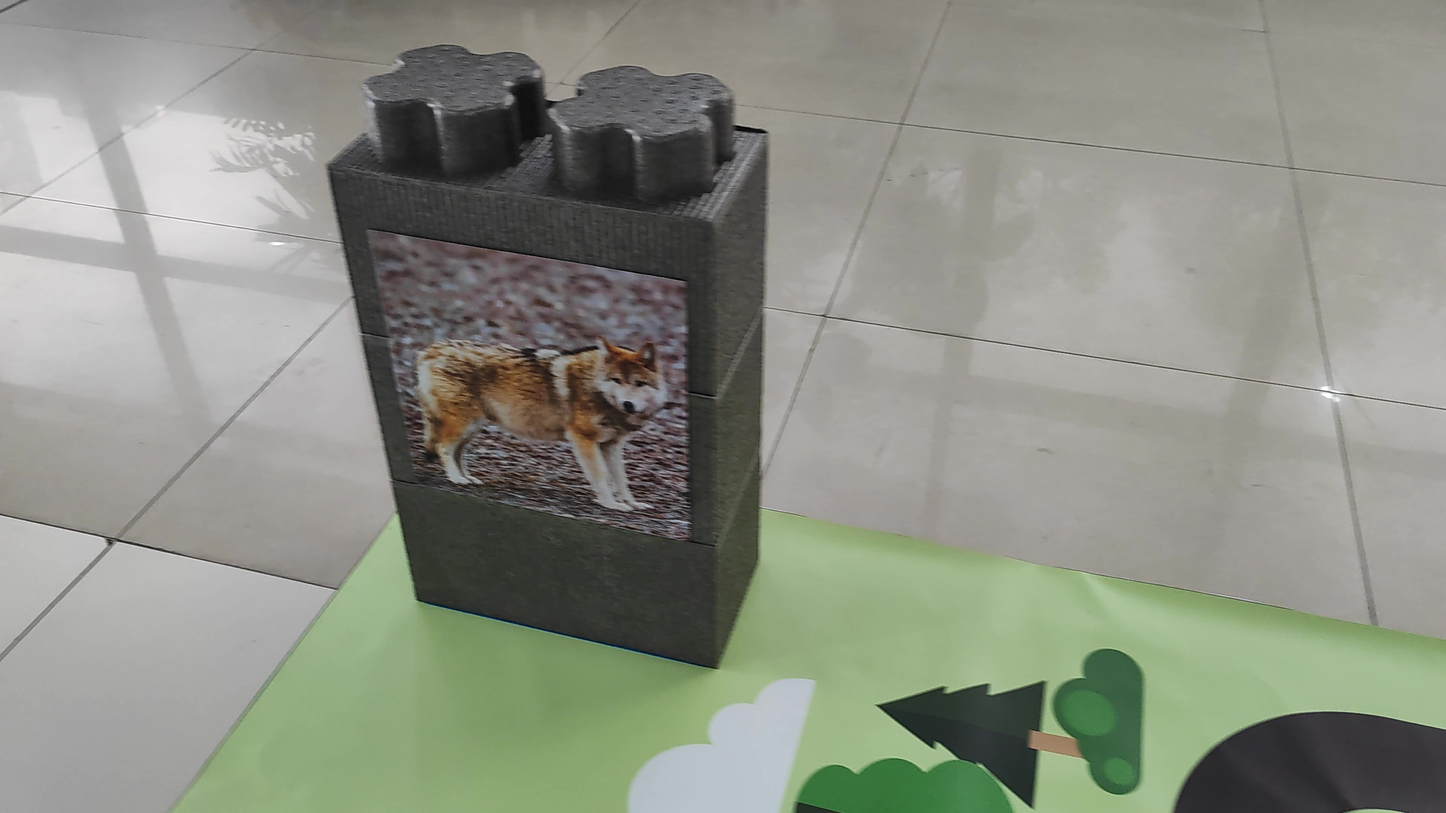wolf: (377, 233, 687, 530)
